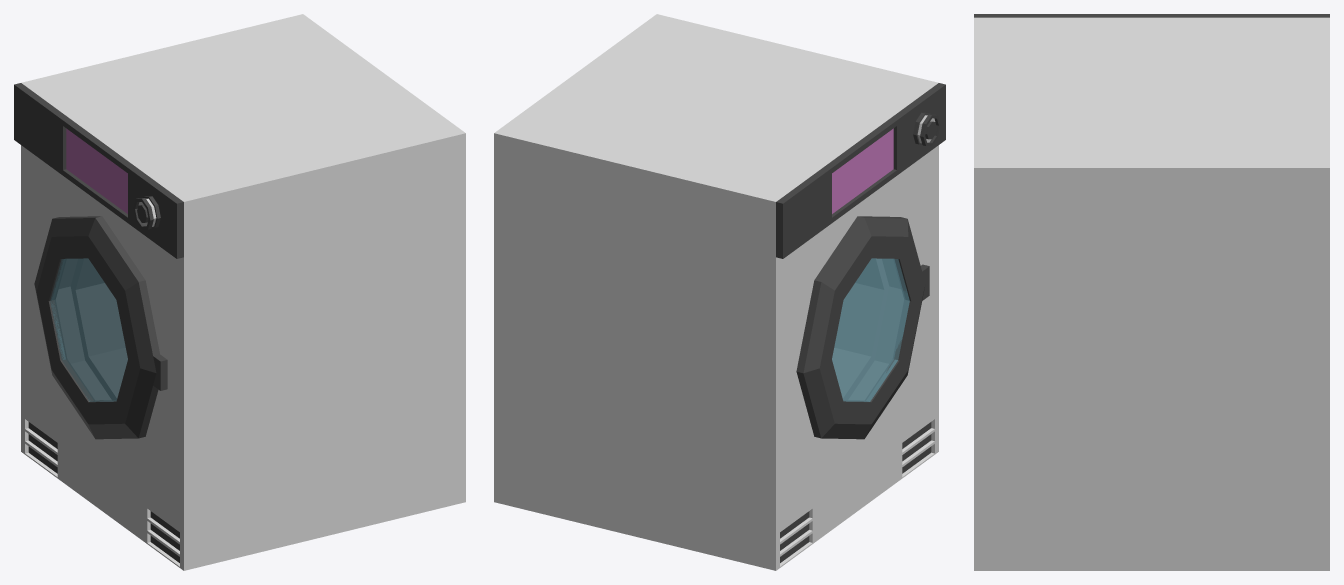
File: Dryer.fbx
3 views of the same model, side by side, from view 1: azimuth 30°, elevation 25°; view 2: azimuth 150°, elevation 25°; view 3: azimuth 270°, elevation 25° (orthographic). The views are drawn at different scales.
Visible parts, largest first — view 1: Dryer, Door, Spinner, Knob; view 2: Dryer, Door, Spinner, Knob; view 3: Dryer.
Boxes of the visible parts, <box> form: Dryer: <box>14,14,465,570</box>; Door: <box>34,216,159,439</box>; Spinner: <box>71,258,127,399</box>; Knob: <box>133,196,160,229</box>; Dryer: <box>494,14,945,570</box>; Door: <box>796,216,925,439</box>; Spinner: <box>832,258,888,399</box>; Knob: <box>913,112,940,146</box>; Dryer: <box>974,14,1329,570</box>.
Size of the model in its own units: 850 by 1000 by 800.
